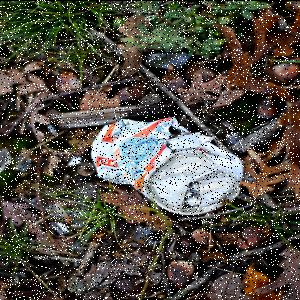Can: (92, 116, 245, 216)
